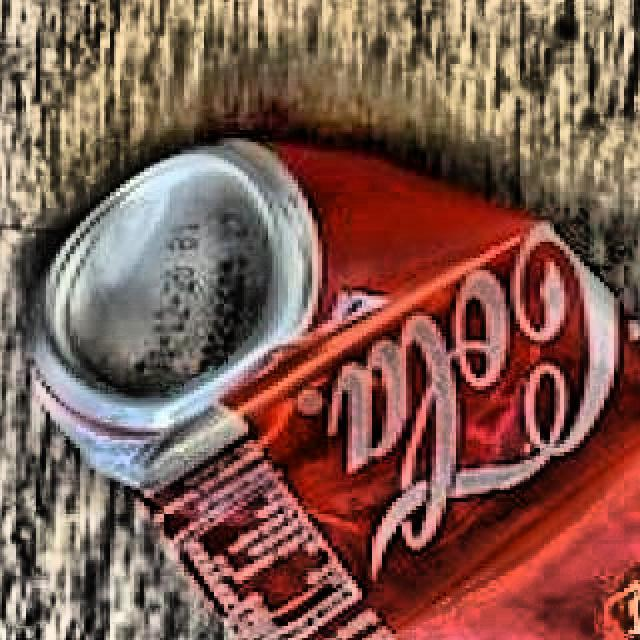metal: (19, 142, 640, 640)
